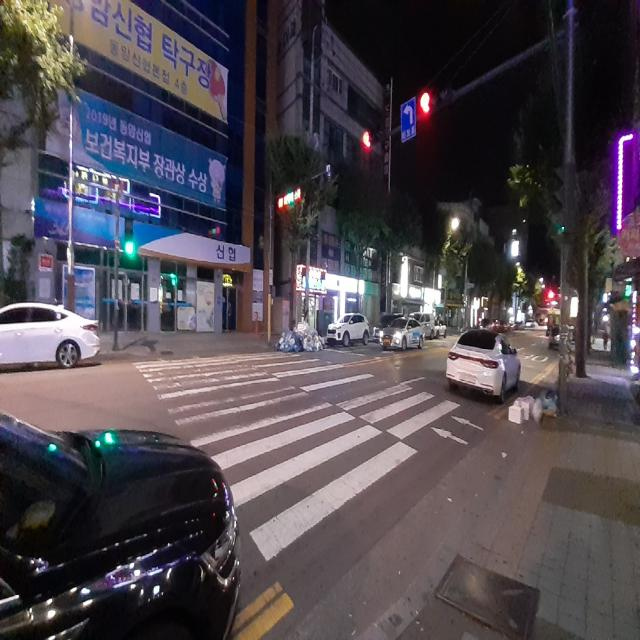횡단보도: (132, 344, 484, 568)
